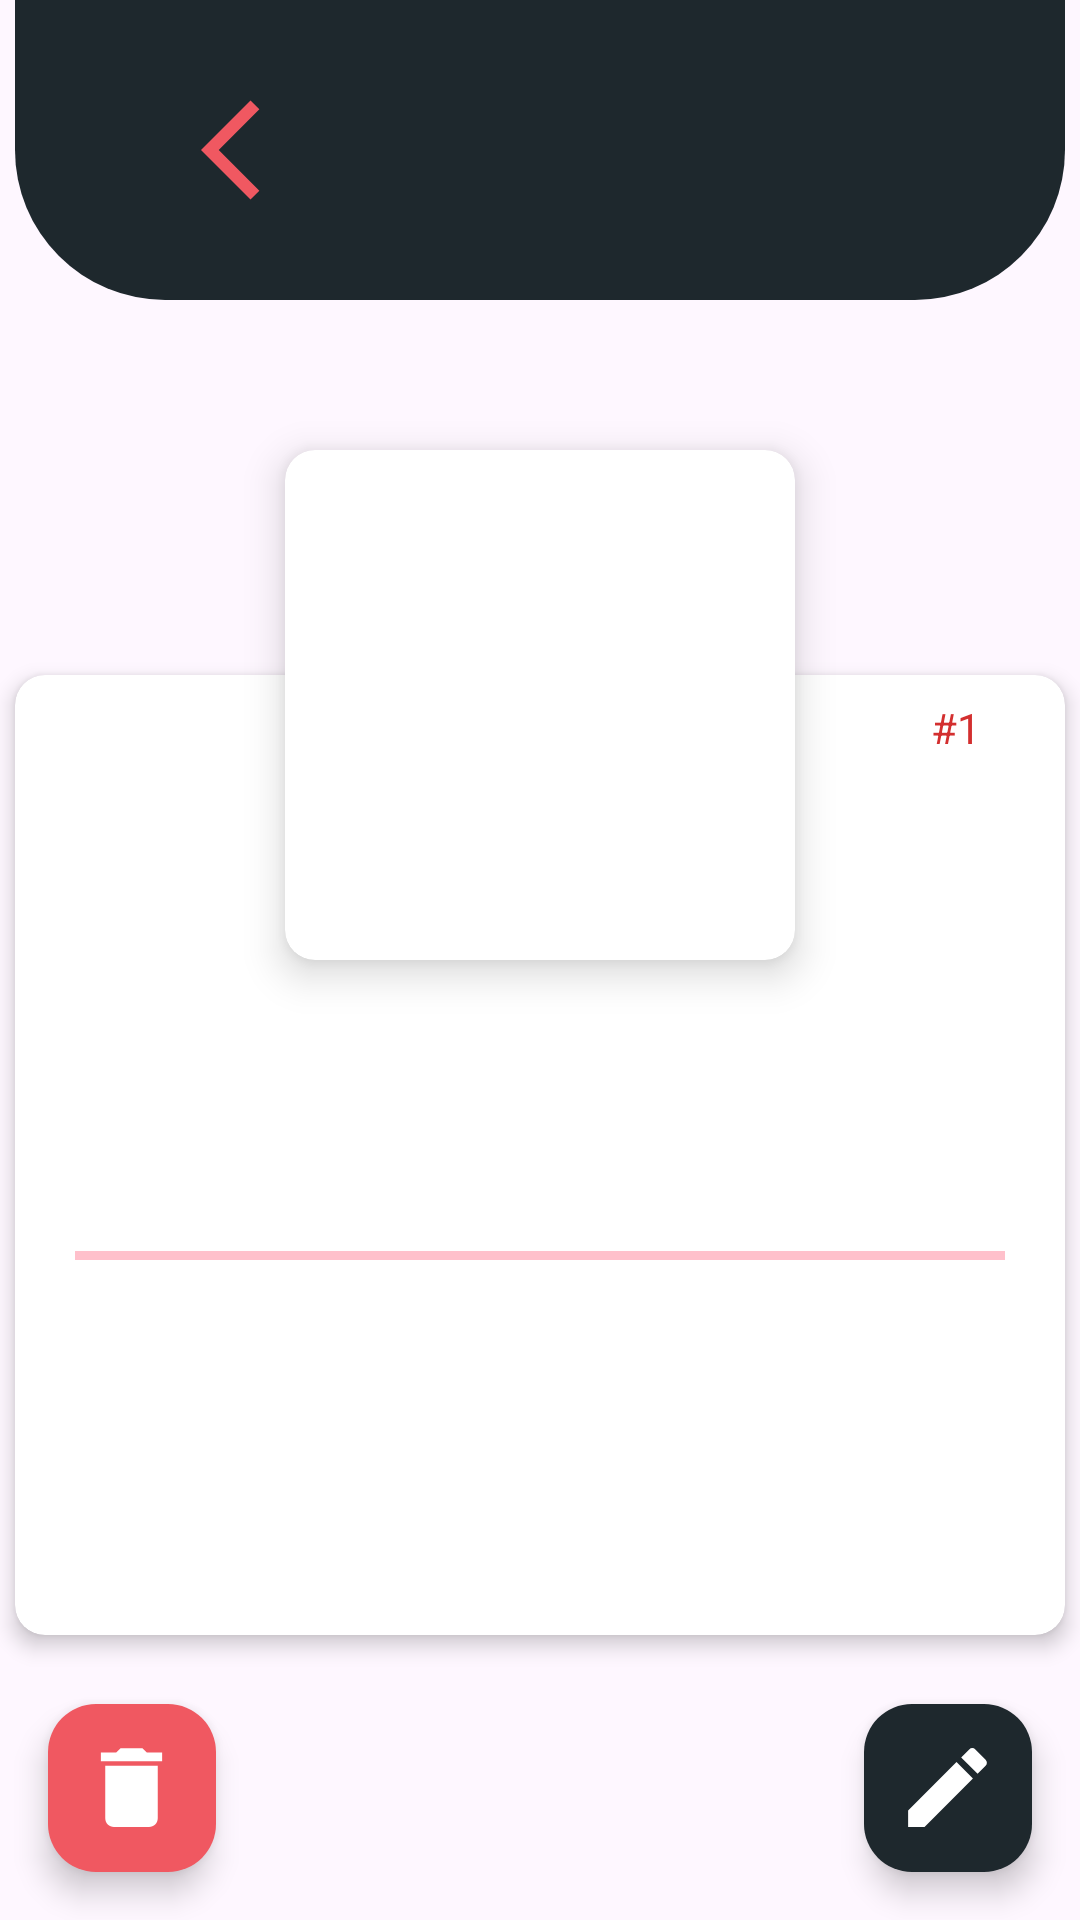

Screen size 1080px×1920px. Icon name, then its center in pixels as (x,y):
back arrow: (230,150)
create: (948,1788)
delete: (132,1788)
